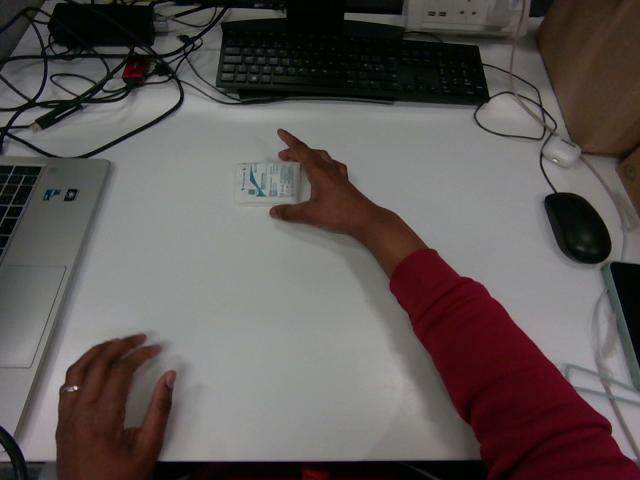gauze: (235, 162, 299, 204)
